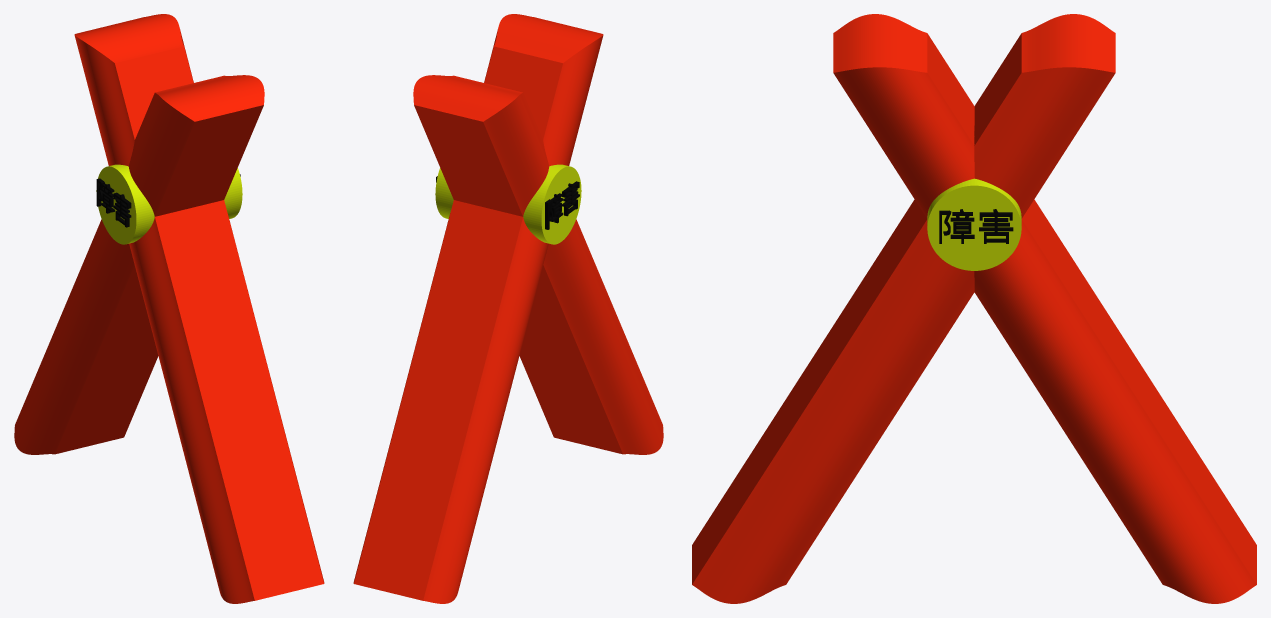
The model's file is jumprope_gate.glb.
3 views of the same model, side by side, from view 1: azimuth 30°, elevation 25°; view 2: azimuth 150°, elevation 25°; view 3: azimuth 270°, elevation 25° (orthographic). The views are drawn at different scales.
Visible parts, largest first — view 1: Cube, Cube.001, Cylinder, Text.001; view 2: Cube.001, Cube, Cylinder, Text.001; view 3: Cube.001, Cube, Cylinder, Text.
Boxes of the visible parts, x1,y1,x2,y2 form: Cube: (74,14,324,603); Cube.001: (14,75,264,454); Cylinder: (96,164,242,244); Text.001: (96,178,131,227); Cube.001: (353,14,603,603); Cube: (413,75,663,454); Cylinder: (435,164,581,244); Text.001: (545,181,579,229); Cube.001: (833,14,1256,603); Cube: (692,14,1115,603); Cylinder: (927,178,1021,270); Text: (939,209,1013,243).
Size of the model in its own units: 3.25 by 12.58 by 12.
